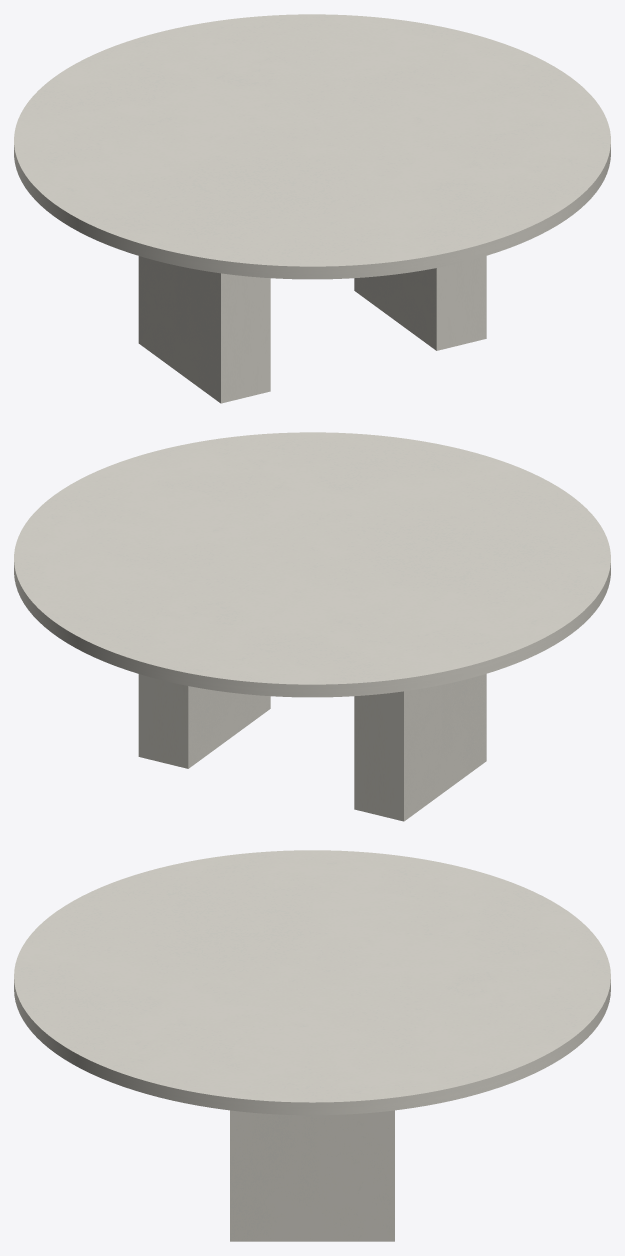
File: pale_round_standard_ridge.glb
3 renders of one model, top to bottom at view 1: azimuth 30°, elevation 25°; view 2: azimuth 150°, elevation 25°; view 3: azimuth 270°, elevation 25°, orthographic.
Parts seen in each view (by area): view 1: standard_round, ridge; view 2: standard_round, ridge; view 3: standard_round, ridge.
Boxes of the visible parts, x1,y1,x2,y2 form: standard_round: [14, 14, 610, 279]; ridge: [138, 256, 486, 403]; standard_round: [14, 432, 610, 697]; ridge: [138, 674, 486, 821]; standard_round: [14, 850, 610, 1115]; ridge: [230, 1110, 394, 1241].
Bounding box in the file's own units: 6.75 × 2.5 × 6.75.
Materials: 1 (1 with a texture image).
